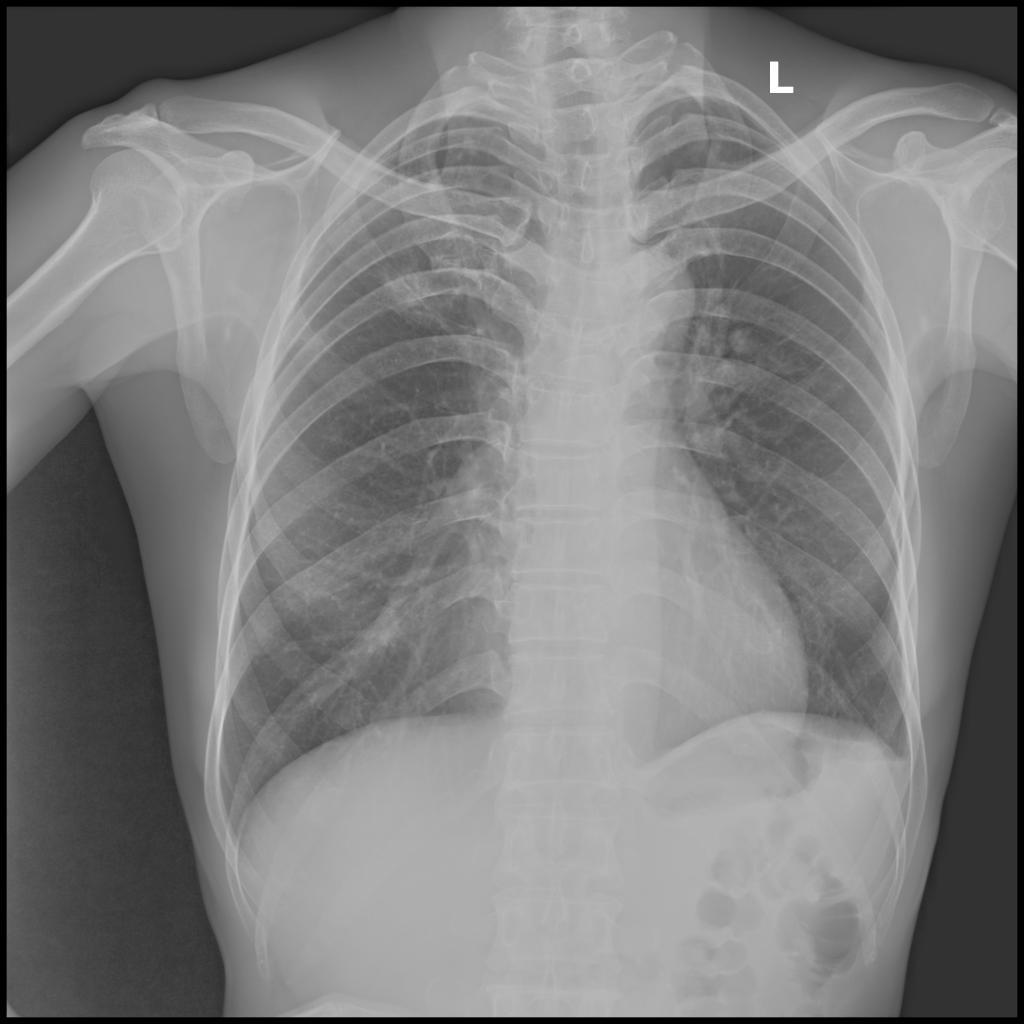Nodule: (389, 263, 447, 315), (459, 138, 477, 162)
